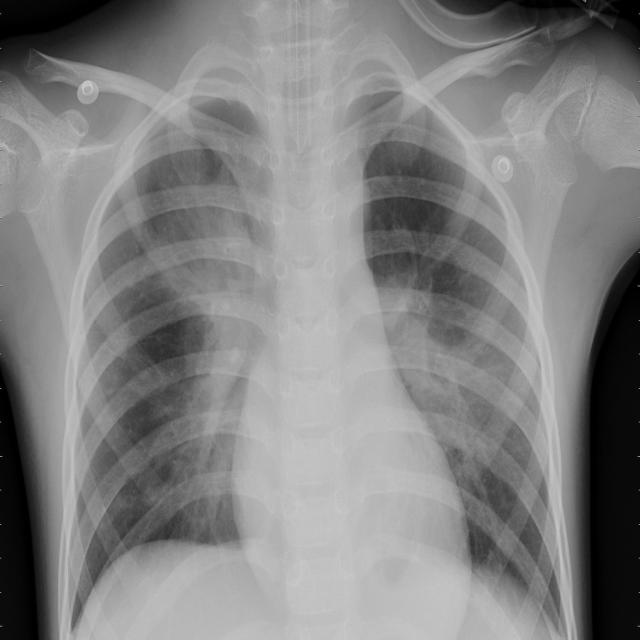low-pneumonia: (168, 182, 264, 516), (382, 258, 498, 471)
